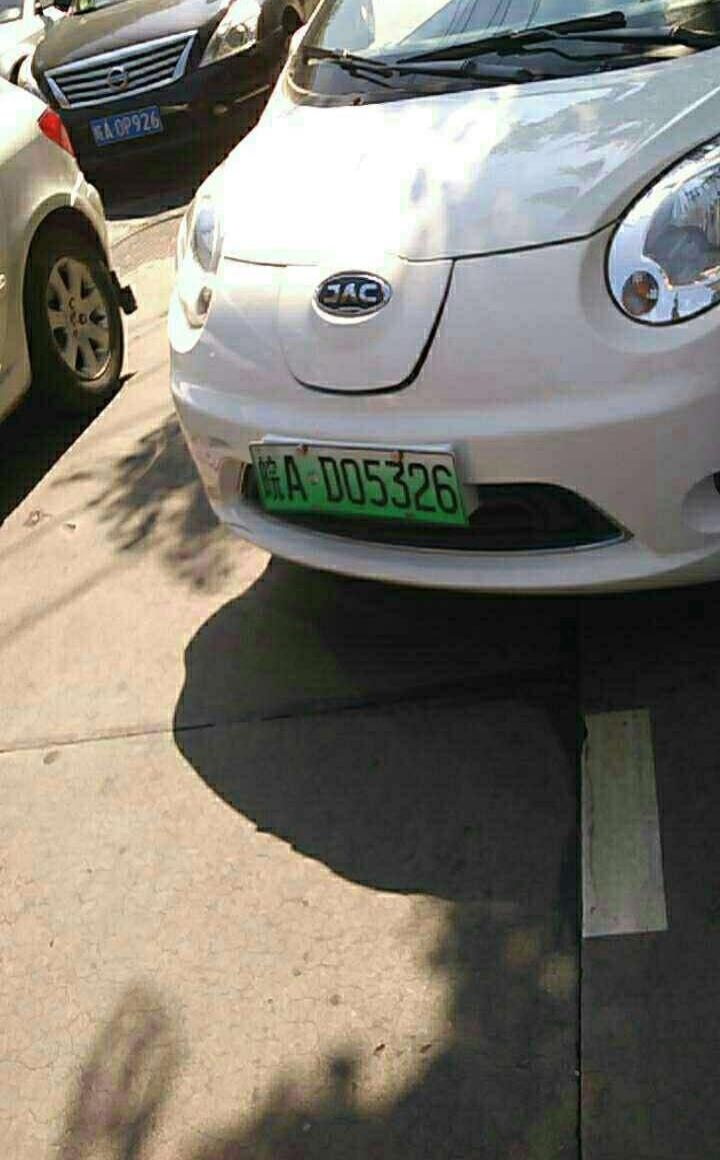car_id: (251, 442, 467, 518)
